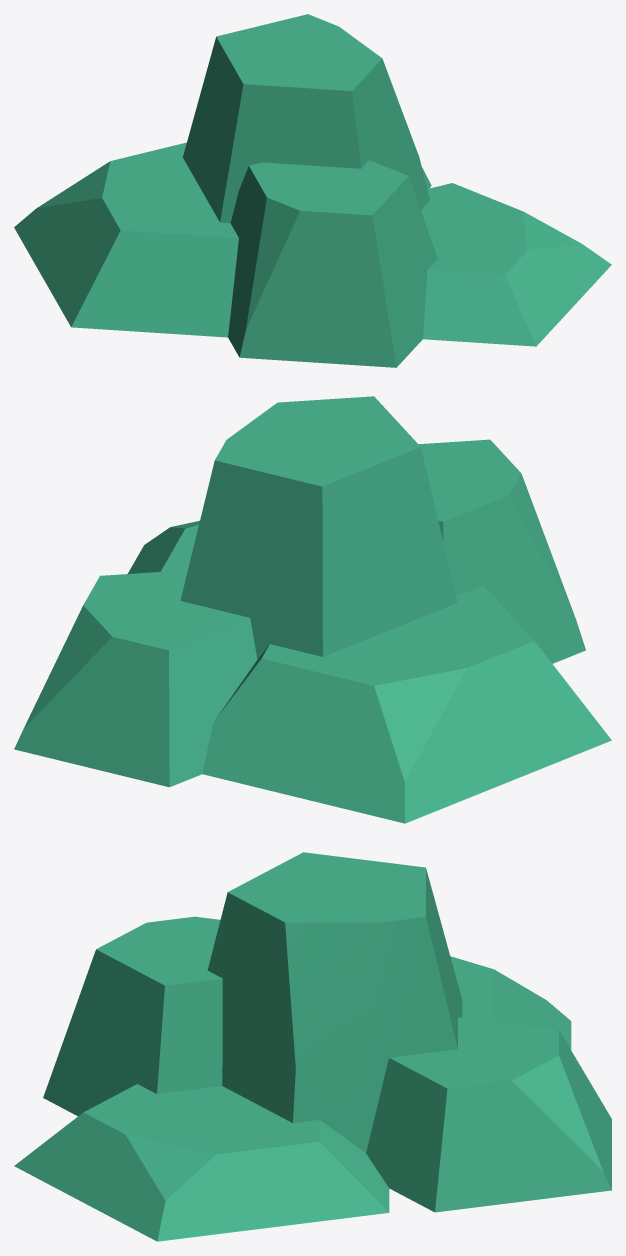
File: detail_rocksLarge.dae
3 renders of one model, top to bottom at view 1: azimuth 30°, elevation 25°; view 2: azimuth 150°, elevation 25°; view 3: azimuth 270°, elevation 25°, orthographic. The views are drawn at different scales.
Visible parts, largest first — view 1: detail_rocksLarge; view 2: detail_rocksLarge; view 3: detail_rocksLarge.
Part boxes in pixels (x1,y1,x2,y2): detail_rocksLarge: (14, 14, 611, 367); detail_rocksLarge: (14, 396, 611, 823); detail_rocksLarge: (14, 852, 611, 1241).
Bounding box in the file's own units: 1 × 0.4186 × 1.
